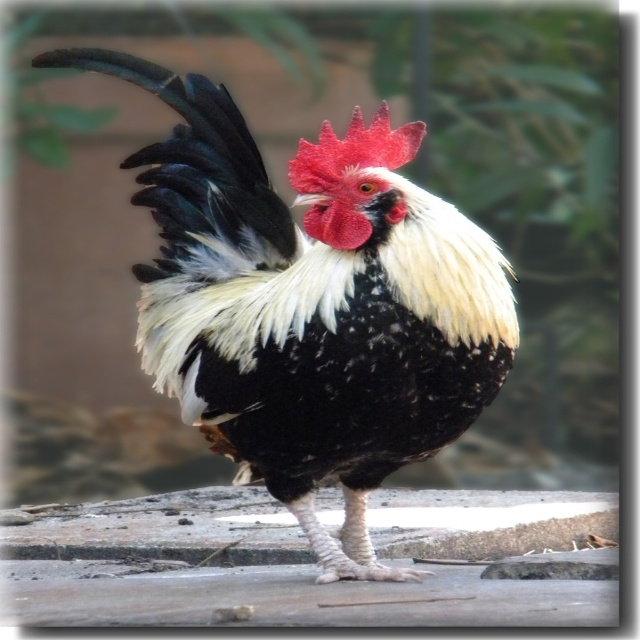Chicken: (18, 50, 522, 587)
